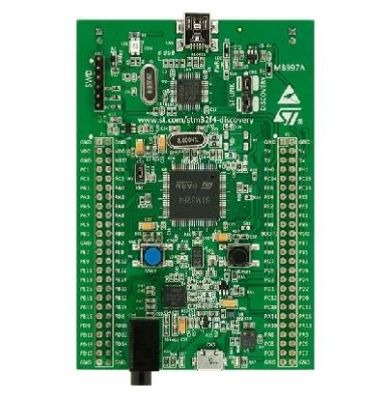STM32F4-DISC: (56, 9, 324, 400)
